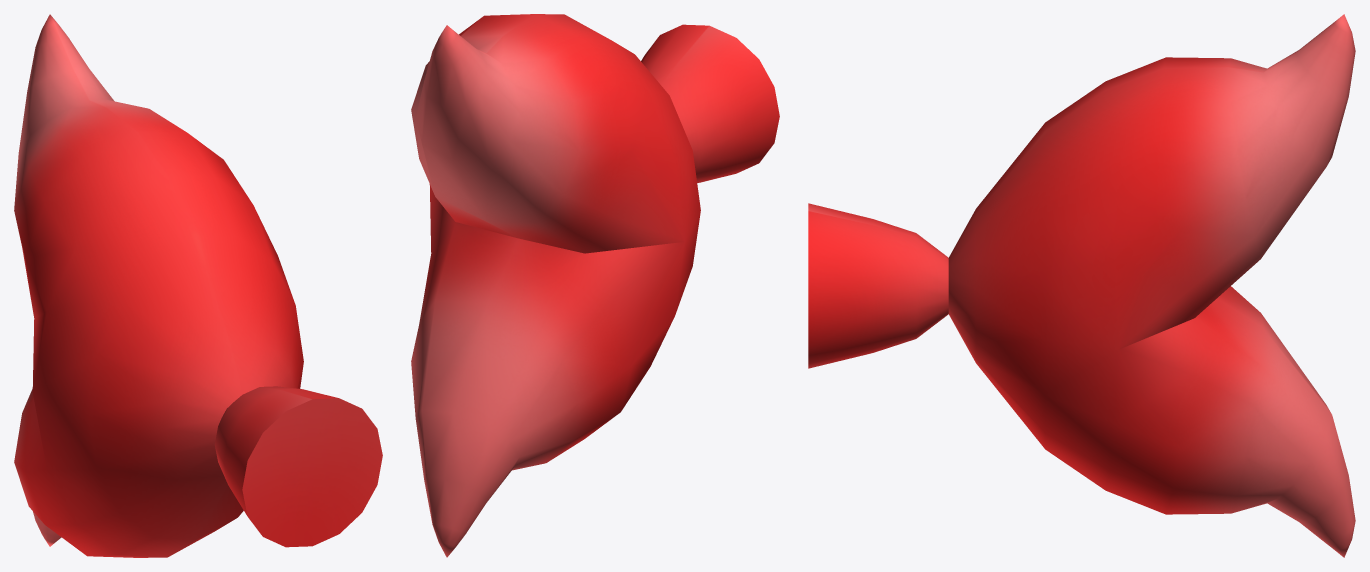
Rendered from GoldFish.FBX.
3 views of the same model, side by side, from view 1: azimuth 30°, elevation 25°; view 2: azimuth 150°, elevation 25°; view 3: azimuth 270°, elevation 25° (orthographic). The views are drawn at different scales.
Parts seen in each view (by area): view 1: GoldFishTail; view 2: GoldFishTail; view 3: GoldFishTail.
Part boxes in pixels (bbox=[...]): GoldFishTail: bbox=[14, 14, 382, 557]; GoldFishTail: bbox=[411, 14, 779, 557]; GoldFishTail: bbox=[808, 14, 1355, 557].
Bounding box in the file's own units: 105 × 209 × 191.
